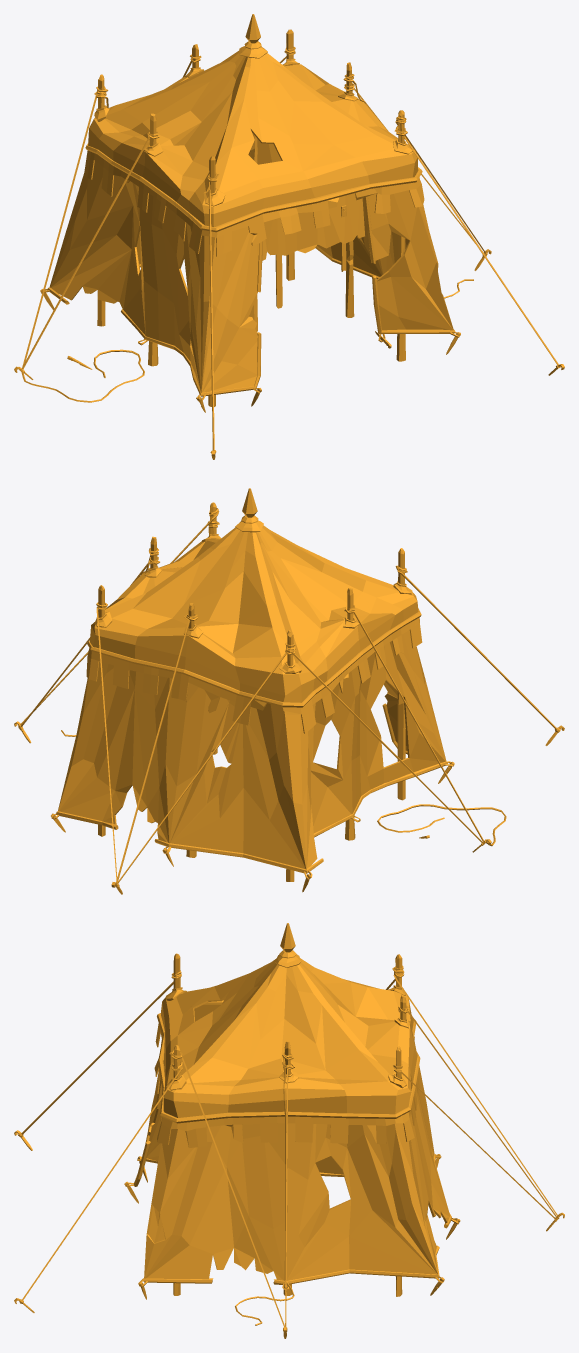
File: SM_Tent_Angular_Striped_Damaged_Fantasy.fbx
3 views of the same model, one above another, from view 1: azimuth 30°, elevation 25°; view 2: azimuth 150°, elevation 25°; view 3: azimuth 270°, elevation 25° (orthographic).
Visible parts, largest first — view 1: tent-angular-striped-damaged-fantasy; view 2: tent-angular-striped-damaged-fantasy; view 3: tent-angular-striped-damaged-fantasy.
Boxes of the visible parts, bbox=[...] form: tent-angular-striped-damaged-fantasy: bbox=[14, 14, 564, 459]; tent-angular-striped-damaged-fantasy: bbox=[14, 488, 564, 894]; tent-angular-striped-damaged-fantasy: bbox=[14, 923, 564, 1338].
Bounding box in the file's own units: 8.06 × 5.31 × 8.11.
